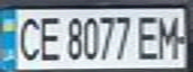0: (81, 12, 100, 61)
7: (112, 12, 136, 61), (97, 12, 118, 61)
8: (63, 12, 84, 62)
C: (12, 12, 45, 63)
E: (33, 12, 63, 63), (133, 12, 163, 61)
M: (154, 11, 187, 60)
